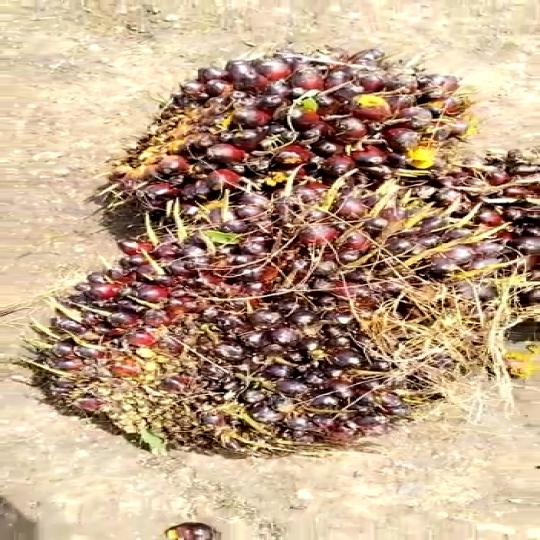kurang masak: (41, 182, 468, 464), (106, 46, 453, 233)
